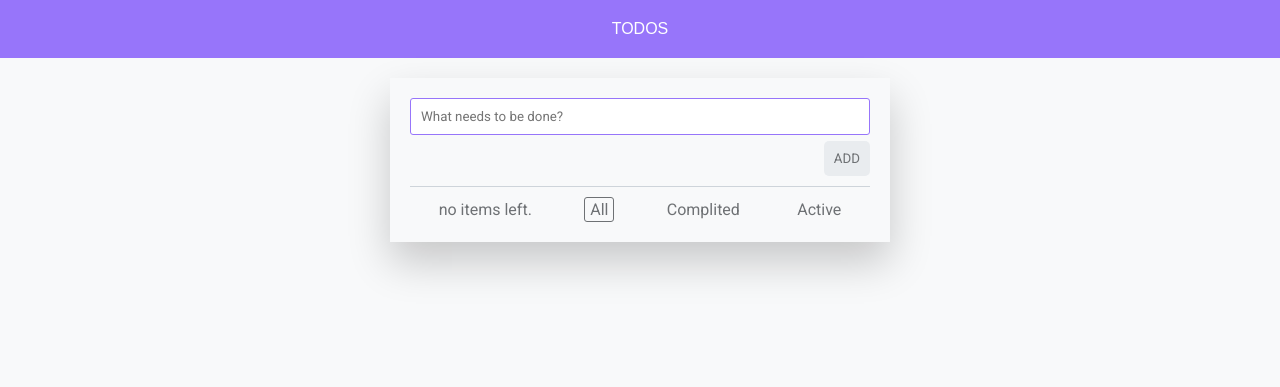
Scenario: <App /> › todo add function › adds todo
Type "test" into the field with placeholder "What needs to be done?". click: (640, 116)
box: [410, 98, 870, 135]
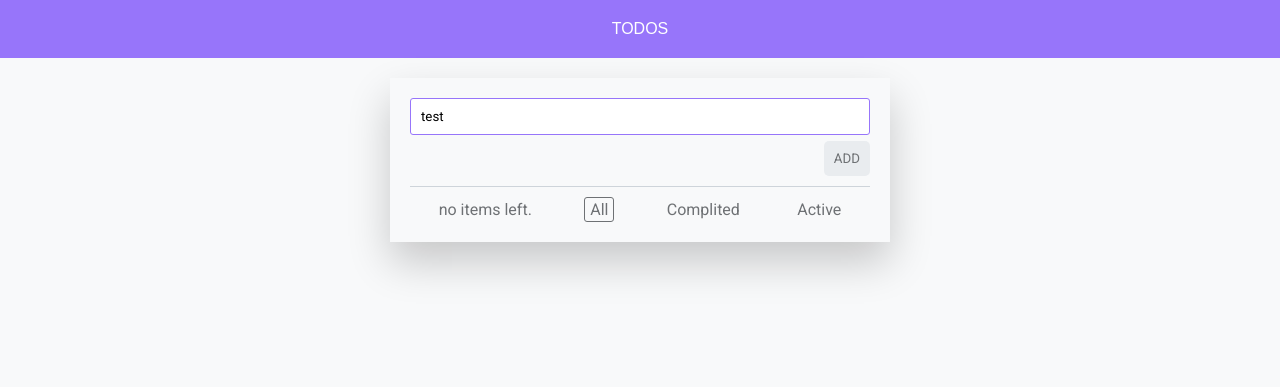
Click the button "ADD". click: (847, 158)
box: [824, 141, 870, 176]
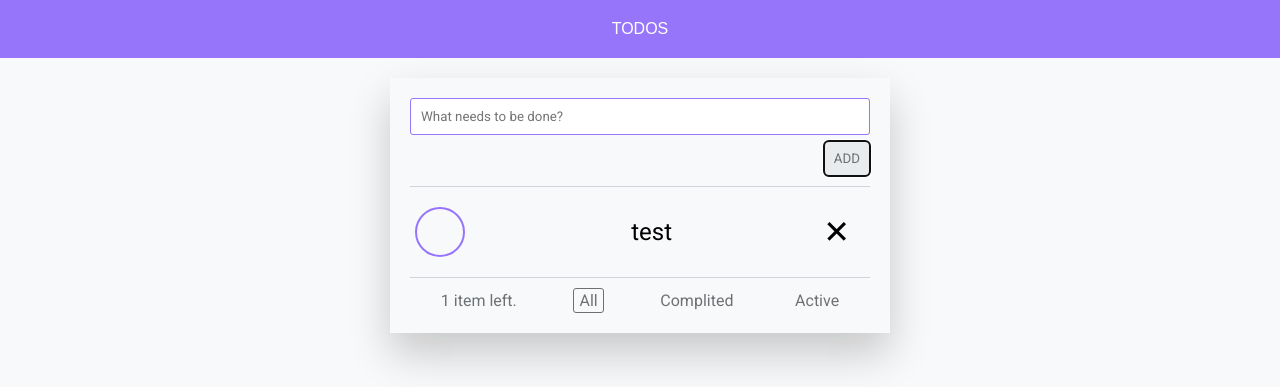
Expected: the text "test" is shown, [631, 218, 672, 246]
